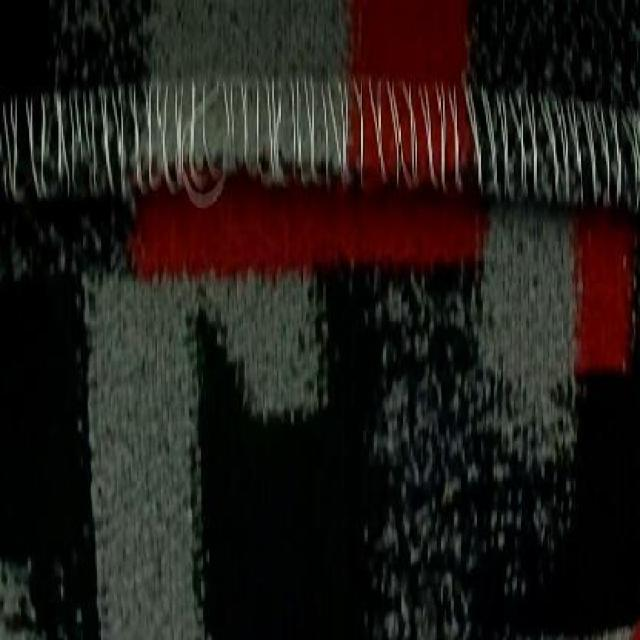gray stitch: (4, 74, 640, 208)
